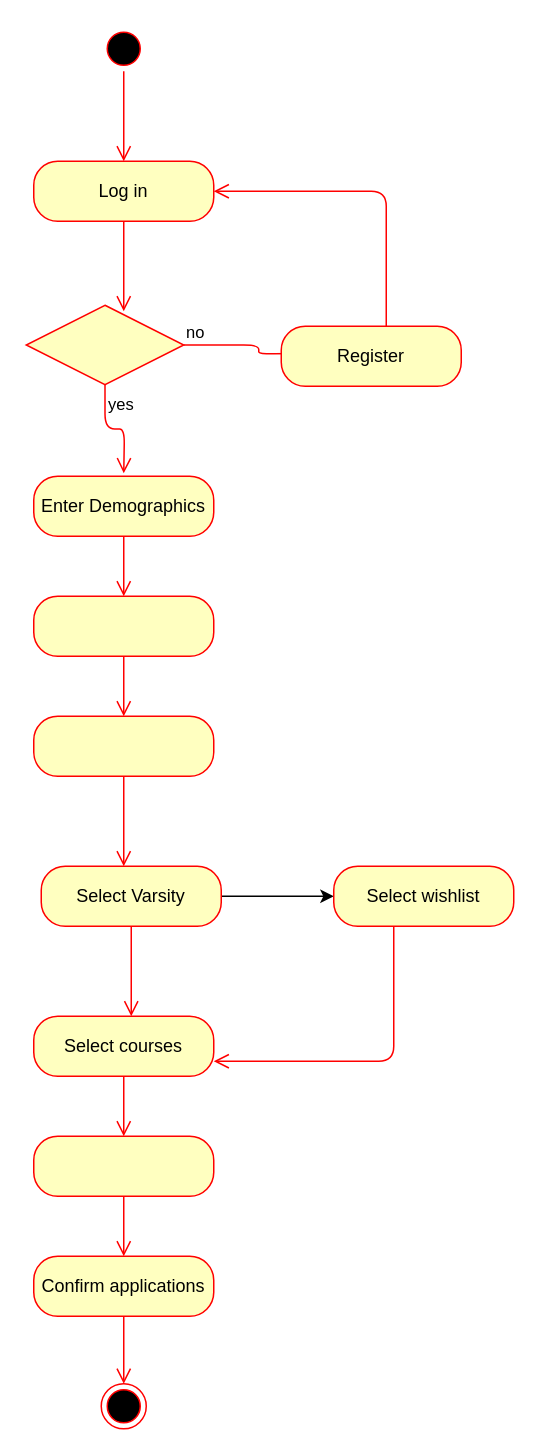
This 540x1455 diagram has some shape labels left out. The box of each missing label's shape, as (x1, y1, x2, y2) in pixels:
Check Suggestion box: (32, 715, 214, 776)
details correct: (25, 304, 184, 385)
Enter Marks: (32, 595, 214, 656)
Upload Documents: (32, 1135, 214, 1196)
